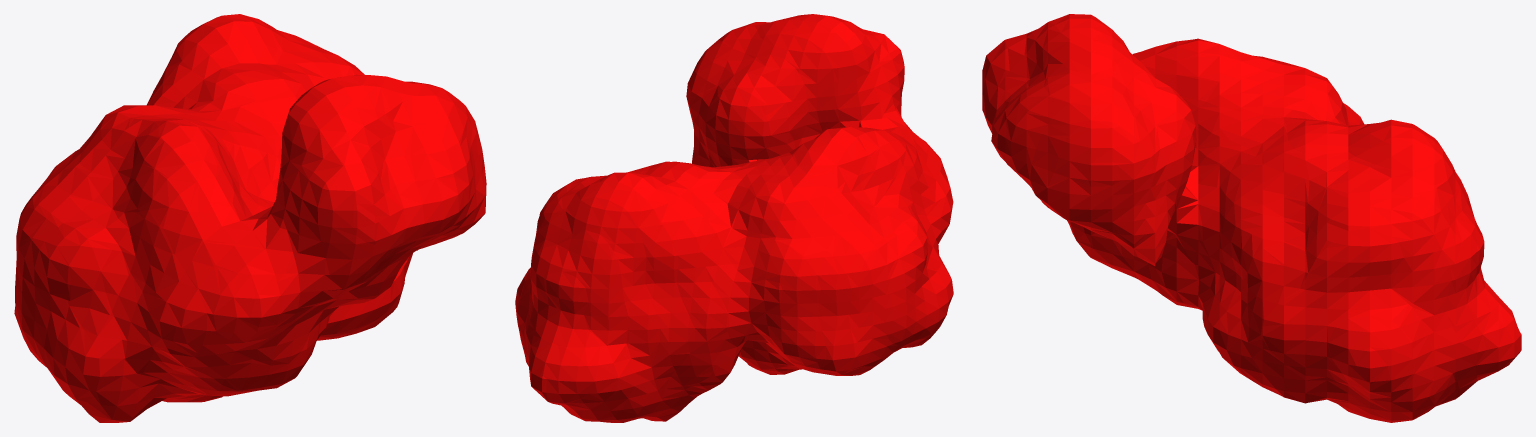
File: gntR_coarse.dae
The picture shows the model from 3 angles, left to right: view 1: azimuth 30°, elevation 25°; view 2: azimuth 150°, elevation 25°; view 3: azimuth 270°, elevation 25°; orthographic projection. The views are drawn at different scales.
Parts seen in each view (by area): view 1: gntR; view 2: gntR; view 3: gntR.
Part boxes in pixels (x1,y1,x2,y2): gntR: [14, 14, 486, 422]; gntR: [515, 14, 953, 422]; gntR: [982, 14, 1521, 422].
Bounding box in the file's own units: 59.75 × 52.92 × 71.79.
